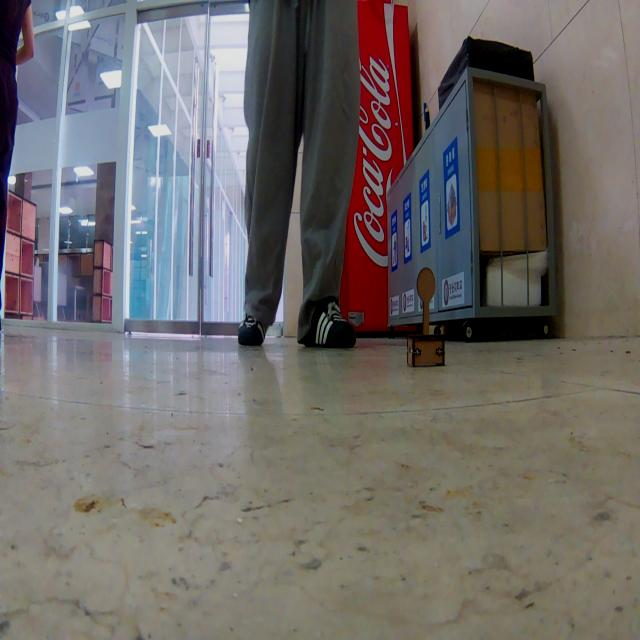target: (406, 266, 446, 368)
